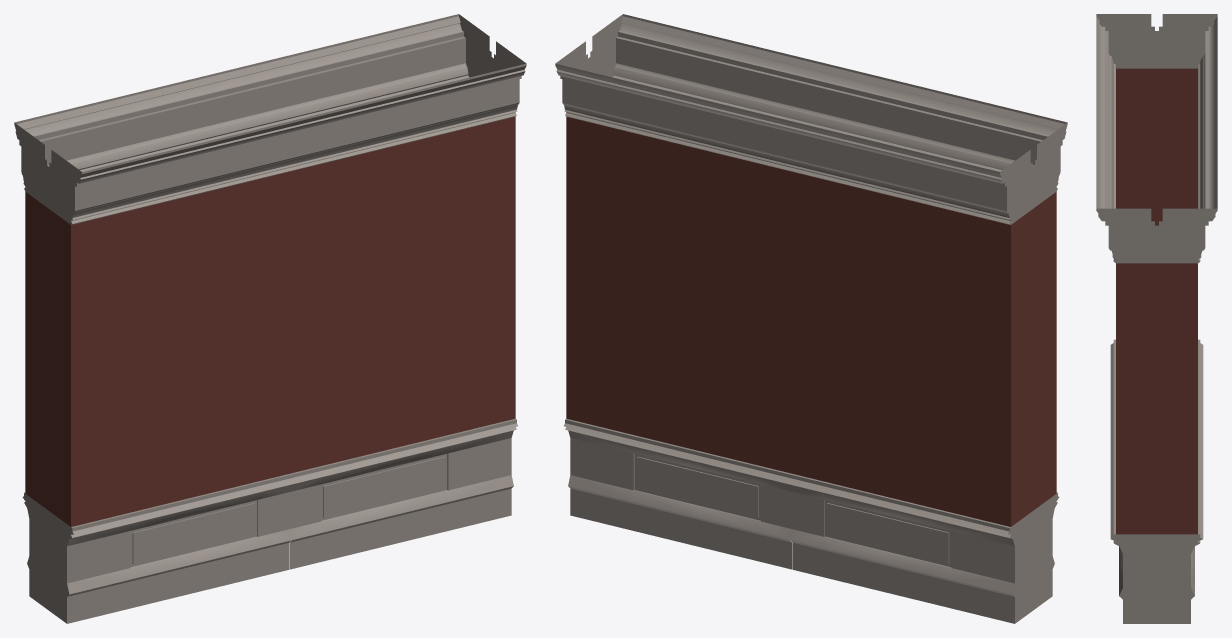
The model's file is museumwall.fbx.
The picture shows the model from 3 angles, left to right: view 1: azimuth 30°, elevation 25°; view 2: azimuth 150°, elevation 25°; view 3: azimuth 270°, elevation 25°; orthographic projection. The views are drawn at different scales.
Visible parts, largest first — view 1: Cube; view 2: Cube; view 3: Cube.
Boxes of the visible parts, left/top/right/bottom form: Cube: left=14, top=14, right=526, bottom=623; Cube: left=555, top=14, right=1067, bottom=623; Cube: left=1096, top=14, right=1217, bottom=623.
Size of the model in its own units: 624 by 621 by 165.
